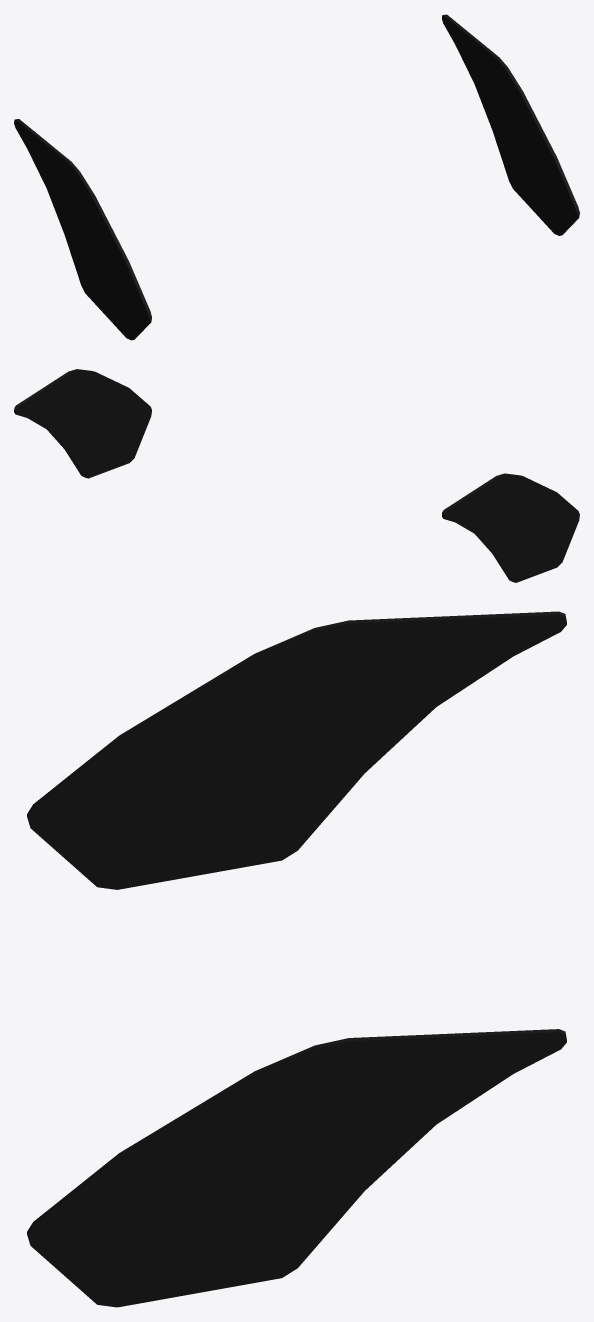
Rendered from RWB_Spoiler_02_Trim.fbx.
The picture shows the model from 3 angles, top to bottom: view 1: azimuth 30°, elevation 25°; view 2: azimuth 150°, elevation 25°; view 3: azimuth 270°, elevation 25°; orthographic projection. The views are drawn at different scales.
Visible parts, largest first — view 1: RWB_Spoiler_02_Trim; view 2: RWB_Spoiler_02_Trim; view 3: RWB_Spoiler_02_Trim.
Part boxes in pixels (bbox=[...]): RWB_Spoiler_02_Trim: bbox=[14, 14, 579, 340]; RWB_Spoiler_02_Trim: bbox=[14, 369, 579, 582]; RWB_Spoiler_02_Trim: bbox=[27, 611, 566, 1307].
Size of the model in its own units: 107 by 32.74 by 58.18.
